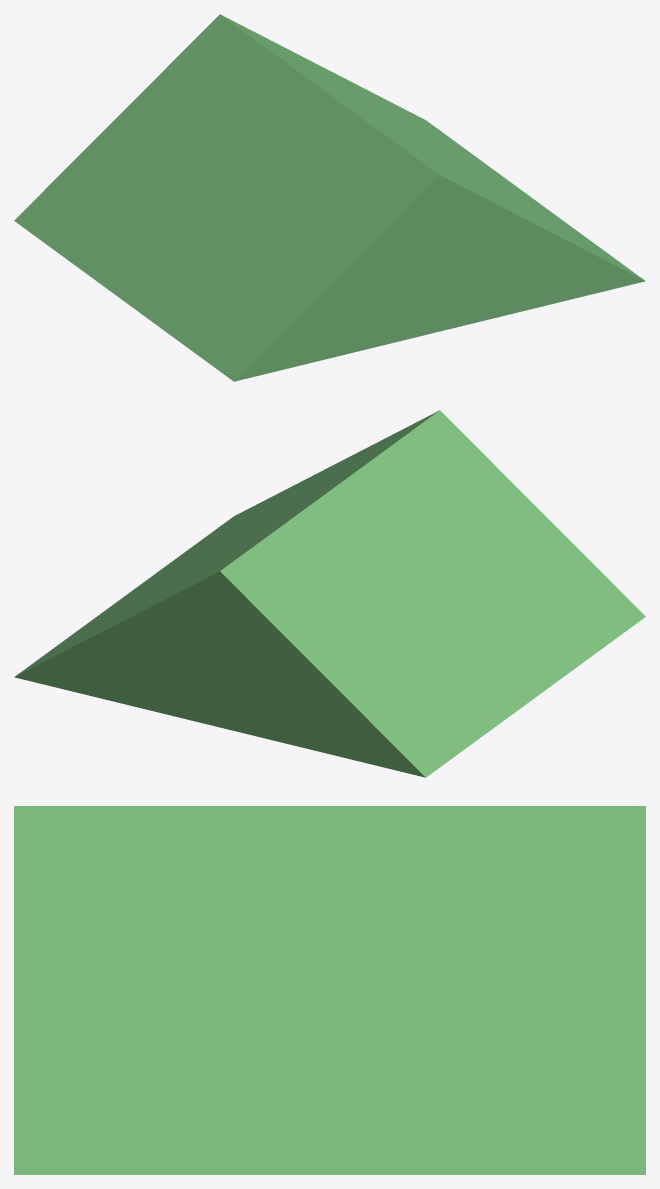
Rendered from Smooth Curcan-Blorr.glb.
The picture shows the model from 3 angles, top to bottom: view 1: azimuth 30°, elevation 25°; view 2: azimuth 150°, elevation 25°; view 3: azimuth 270°, elevation 25°; orthographic projection. The views are drawn at different scales.
Parts seen in each view (by area): view 1: Mesh_Mesh_head_geo.001_lambert2SG.001; view 2: Mesh_Mesh_head_geo.001_lambert2SG.001; view 3: Mesh_Mesh_head_geo.001_lambert2SG.001.
Boxes of the visible parts, <box> form: Mesh_Mesh_head_geo.001_lambert2SG.001: <box>14,14,645,381</box>; Mesh_Mesh_head_geo.001_lambert2SG.001: <box>14,410,645,777</box>; Mesh_Mesh_head_geo.001_lambert2SG.001: <box>14,806,645,1174</box>.
Bounding box in the file's own units: 80 × 29 × 74.
